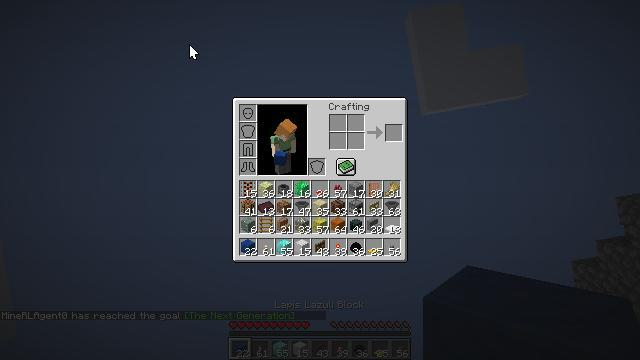cursor: (44, 189, 60, 199)
